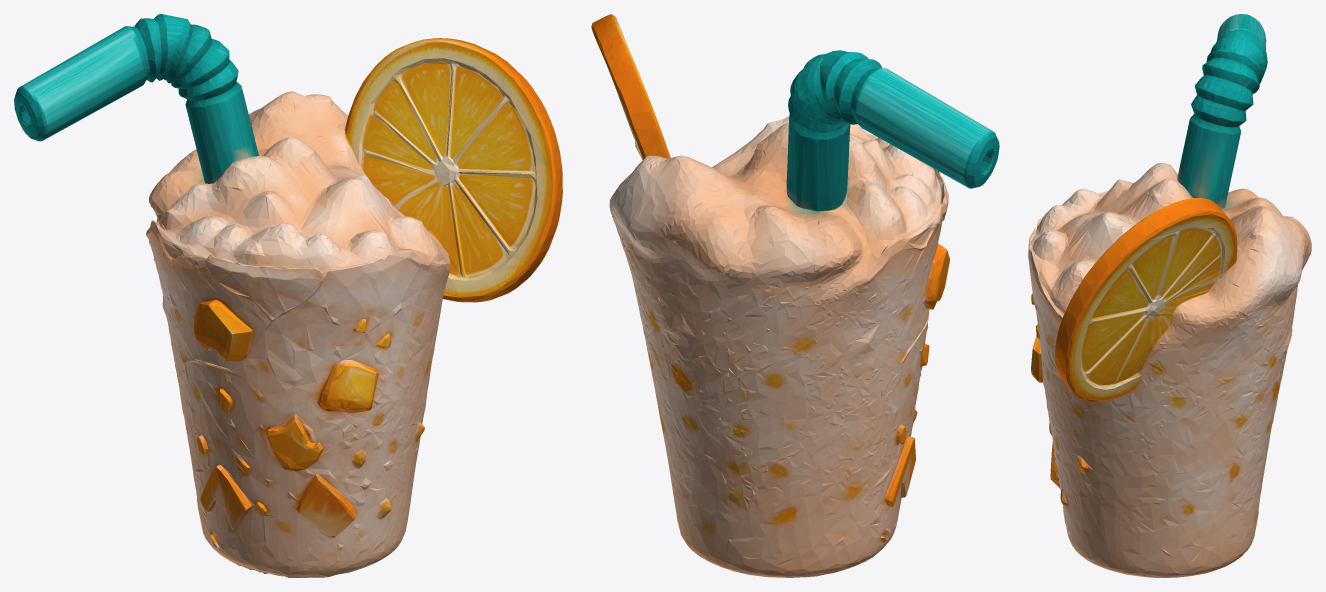
The model's file is Web_MilkSlush_Orange.obj.
3 renders of one model, left to right at view 1: azimuth 30°, elevation 25°; view 2: azimuth 150°, elevation 25°; view 3: azimuth 270°, elevation 25°, orthographic. The views are drawn at different scales.
Parts seen in each view (by area): view 1: Web_MilkSlush_Orange; view 2: Web_MilkSlush_Orange; view 3: Web_MilkSlush_Orange.
Boxes of the visible parts, bbox=[...] form: Web_MilkSlush_Orange: bbox=[14, 14, 562, 577]; Web_MilkSlush_Orange: bbox=[591, 14, 999, 577]; Web_MilkSlush_Orange: bbox=[1028, 14, 1311, 577].
Size of the model in its own units: 0.9143 by 0.9998 by 0.5539.
1 material, 1 textured.
